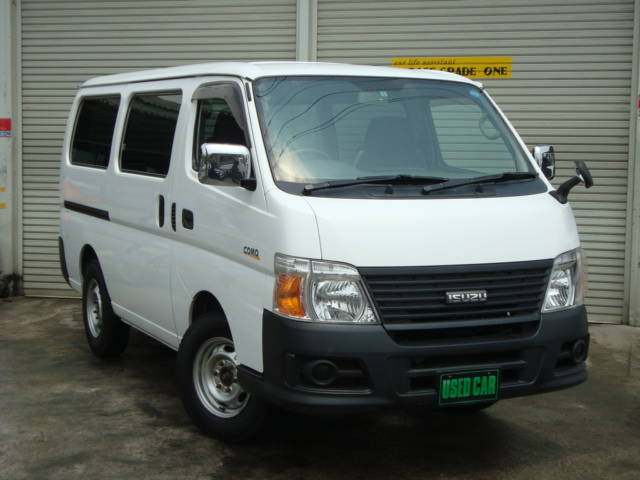van: (56, 59, 592, 442)
